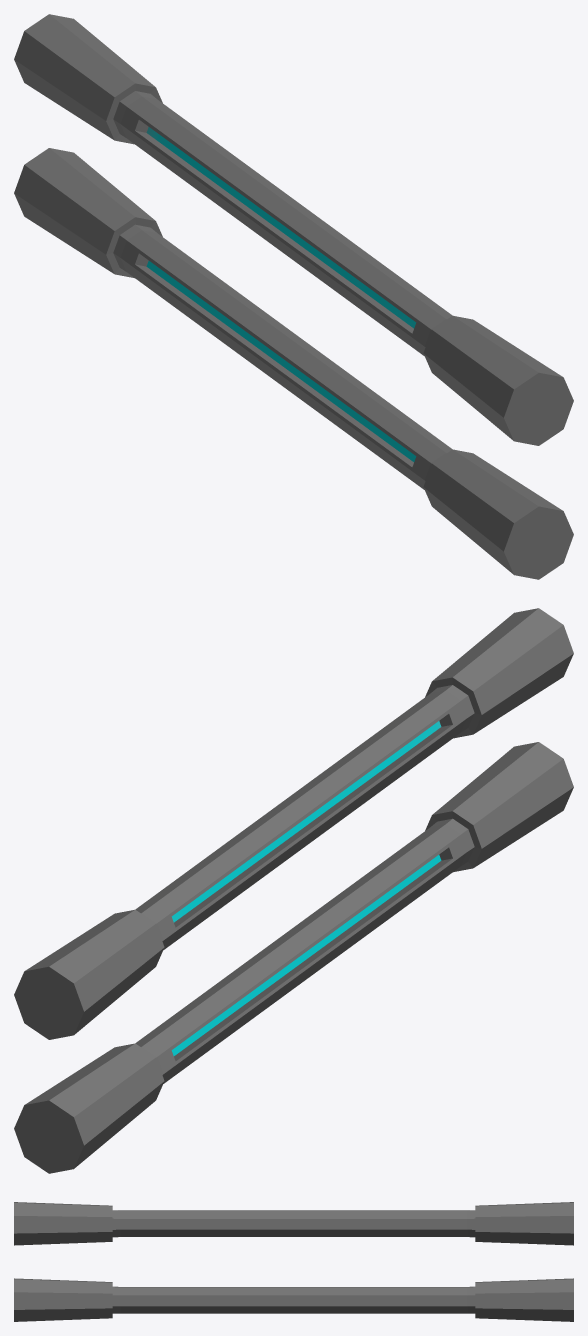
3 renders of one model, top to bottom at view 1: azimuth 30°, elevation 25°; view 2: azimuth 150°, elevation 25°; view 3: azimuth 270°, elevation 25°, orthographic. The views are drawn at different scales.
Visible parts, largest first — view 1: SM_B_Part20; view 2: SM_B_Part20; view 3: SM_B_Part20.
Boxes of the visible parts, box(x1,y1,x2,y2) form: SM_B_Part20: box(14, 14, 573, 579); SM_B_Part20: box(14, 608, 573, 1173); SM_B_Part20: box(14, 1202, 573, 1321).
Bounding box in the file's own units: 9.05 × 109 × 25.53.
Materials: 1 (1 with a texture image).
